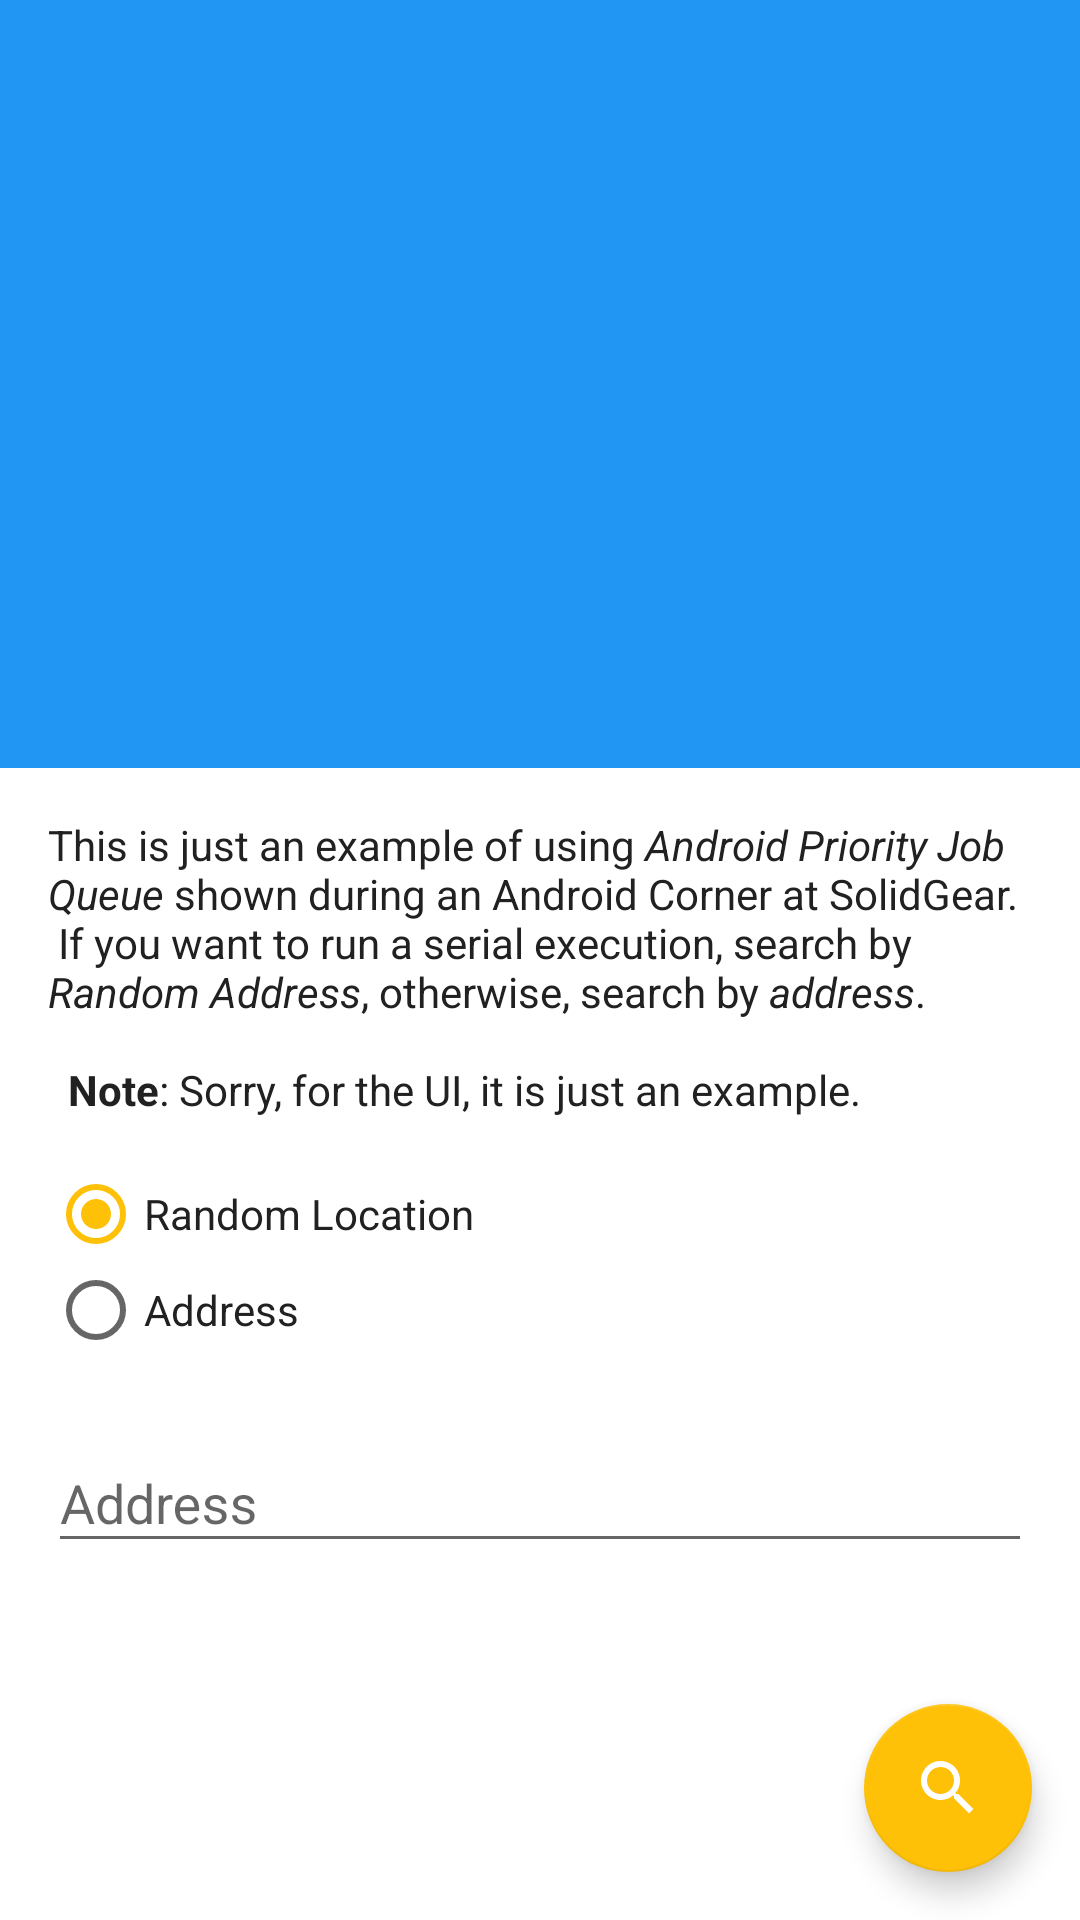

Icon bounding boxes for this 1080 x 1920 phone screenshot, format (x1, y1, x2, y2):
search: (864, 1704, 1032, 1872)
